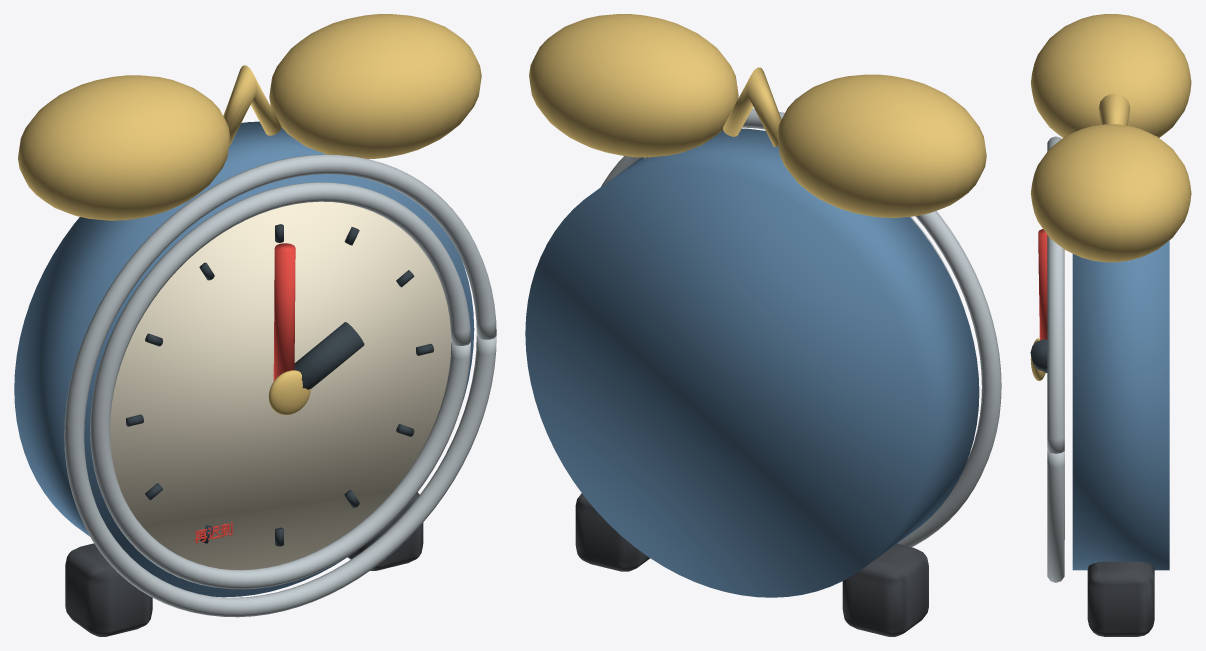
Rendered from S01_Reversed_Forged_School_Alarm.glb.
3 renders of one model, left to right at view 1: azimuth 30°, elevation 25°; view 2: azimuth 150°, elevation 25°; view 3: azimuth 270°, elevation 25°, orthographic. The views are drawn at different scales.
Parts seen in each view (by area): view 1: S01 porcelain engraved clock dial, S01_CLOCK_CASE_ACTOR | Old school chrome alarm clock rim, S01_BELLS_ACTOR | Actual heavy brass bell ringing buttons, S01 old-fashioned real circular analog clock body, S01_CLOCK_CASE_ACTOR | Antique clock rubber feet, S01 reversing crimson long minute hand, S01 reversing short navy hour hand, S01_CLOCK_CASE_ACTOR | Visible black clock numerals and hand, S01 physical sapphire clock pin pivot; view 2: S01 old-fashioned real circular analog clock body, S01_BELLS_ACTOR | Actual heavy brass bell ringing buttons, S01_CLOCK_CASE_ACTOR | Antique clock rubber feet, S01_CLOCK_CASE_ACTOR | Old school chrome alarm clock rim; view 3: S01_BELLS_ACTOR | Actual heavy brass bell ringing buttons, S01 old-fashioned real circular analog clock body, S01_CLOCK_CASE_ACTOR | Old school chrome alarm clock rim, S01_CLOCK_CASE_ACTOR | Antique clock rubber feet, S01 reversing crimson long minute hand, S01 reversing short navy hour hand, S01 porcelain engraved clock dial.
Part boxes in pixels (left/top/right/bottom): S01 porcelain engraved clock dial: left=110, top=201, right=451, bottom=569; S01_CLOCK_CASE_ACTOR | Old school chrome alarm clock rim: left=64, top=154, right=496, bottom=617; S01_BELLS_ACTOR | Actual heavy brass bell ringing buttons: left=18, top=14, right=481, bottom=220; S01 old-fashioned real circular analog clock body: left=14, top=121, right=474, bottom=597; S01_CLOCK_CASE_ACTOR | Antique clock rubber feet: left=65, top=492, right=423, bottom=636; S01 reversing crimson long minute hand: left=273, top=243, right=295, bottom=380; S01 reversing short navy hour hand: left=294, top=322, right=364, bottom=389; S01_CLOCK_CASE_ACTOR | Visible black clock numerals and hand: left=126, top=224, right=433, bottom=546; S01 physical sapphire clock pin pivot: left=268, top=370, right=310, bottom=414; S01 old-fashioned real circular analog clock body: left=525, top=128, right=979, bottom=597; S01_BELLS_ACTOR | Actual heavy brass bell ringing buttons: left=529, top=14, right=986, bottom=217; S01_CLOCK_CASE_ACTOR | Antique clock rubber feet: left=575, top=493, right=928, bottom=636; S01_CLOCK_CASE_ACTOR | Old school chrome alarm clock rim: left=601, top=108, right=1001, bottom=547; S01_BELLS_ACTOR | Actual heavy brass bell ringing buttons: left=1030, top=14, right=1191, bottom=262; S01 old-fashioned real circular analog clock body: left=1072, top=240, right=1169, bottom=570; S01_CLOCK_CASE_ACTOR | Old school chrome alarm clock rim: left=1047, top=136, right=1064, bottom=582; S01_CLOCK_CASE_ACTOR | Antique clock rubber feet: left=1087, top=561, right=1154, bottom=636; S01 reversing crimson long minute hand: left=1038, top=229, right=1047, bottom=340; S01 reversing short navy hour hand: left=1030, top=339, right=1047, bottom=372; S01 porcelain engraved clock dial: left=1064, top=250, right=1064, bottom=539.
Size of the model in its own units: 1.38 by 1.6 by 0.481.
